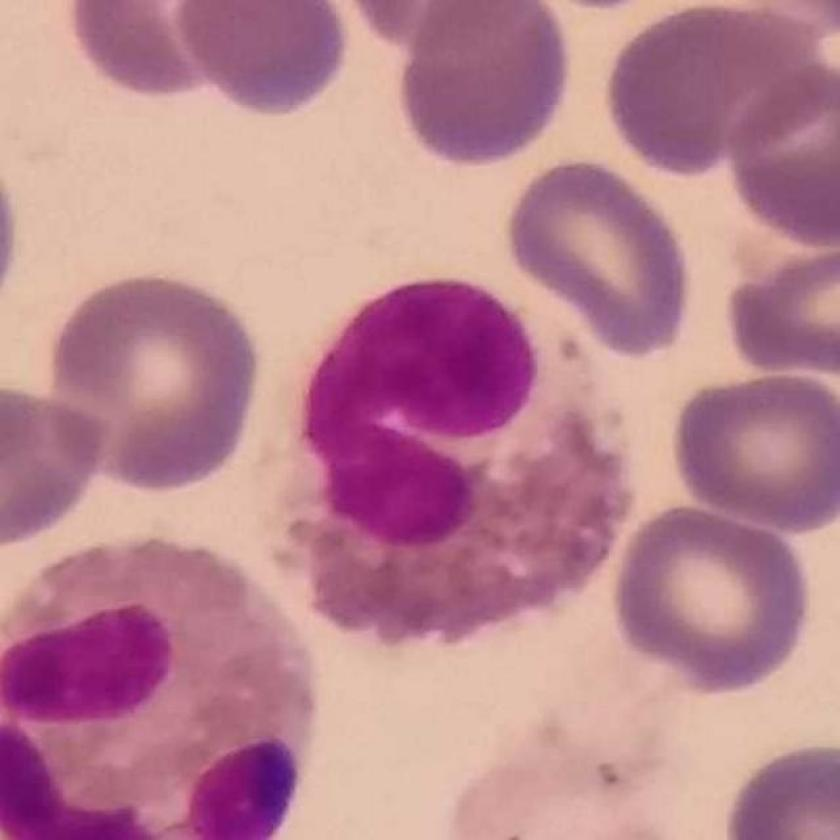eosinophil: (249, 269, 645, 652), (2, 528, 327, 840)
